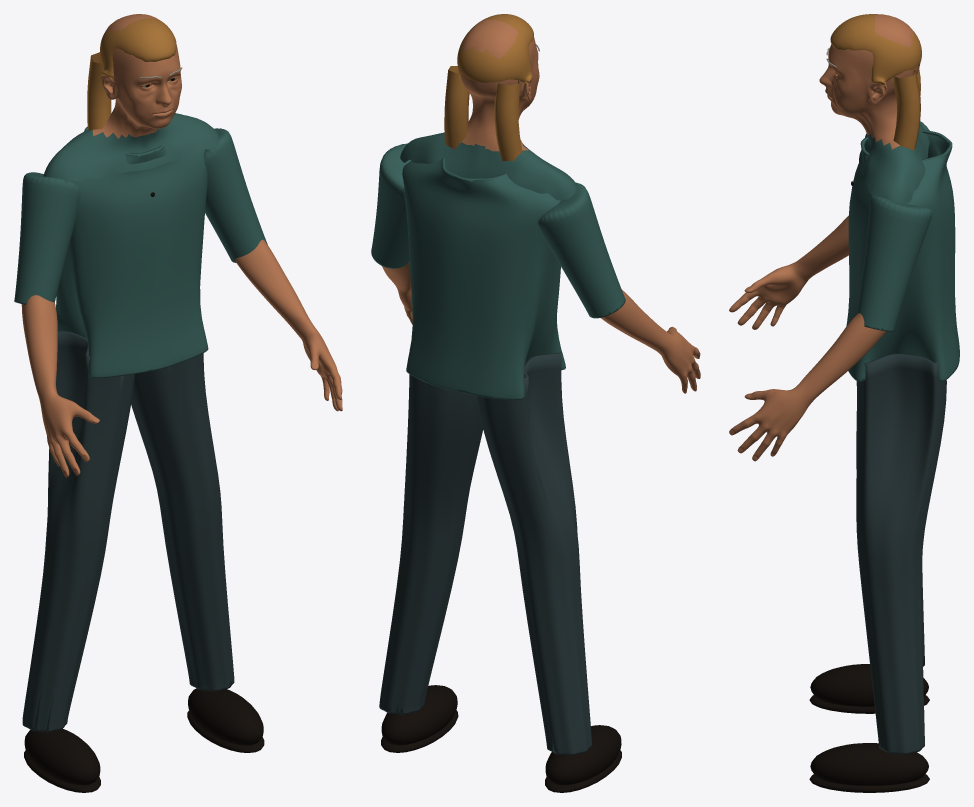
File: miriam.glb
3 views of the same model, side by side, from view 1: azimuth 30°, elevation 25°; view 2: azimuth 150°, elevation 25°; view 3: azimuth 270°, elevation 25° (orthographic).
Visible parts, largest first — view 1: Miriam r trouser leg, Miriam l linen sleeve, Miriam anatomy, Miriam shirt button.002, Miriam scarf fold; view 2: Miriam r trouser leg, Miriam l linen sleeve, Miriam anatomy, Miriam scarf fold, Miriam shirt button.002; view 3: Miriam r trouser leg, Miriam l linen sleeve, Miriam anatomy, Miriam shirt button.002, Miriam scarf fold.
Boxes of the visible parts, <box> form: Miriam r trouser leg: <box>22,331,234,732</box>; Miriam l linen sleeve: <box>14,126,267,378</box>; Miriam anatomy: <box>21,14,342,477</box>; Miriam shirt button.002: <box>24,192,264,792</box>; Miriam scarf fold: <box>87,18,176,130</box>; Miriam r trouser leg: <box>379,349,591,755</box>; Miriam l linen sleeve: <box>371,143,625,399</box>; Miriam anatomy: <box>382,19,700,393</box>; Miriam scarf fold: <box>444,14,533,161</box>; Miriam shirt button.002: <box>381,685,621,792</box>; Miriam r trouser leg: <box>856,353,946,754</box>; Miriam l linen sleeve: <box>846,121,959,381</box>; Miriam anatomy: <box>729,14,929,461</box>; Miriam shirt button.002: <box>809,181,929,792</box>; Miriam scarf fold: <box>830,14,921,150</box>.
Bounding box in the file's own units: 0.6697 × 1.66 × 0.4769.
